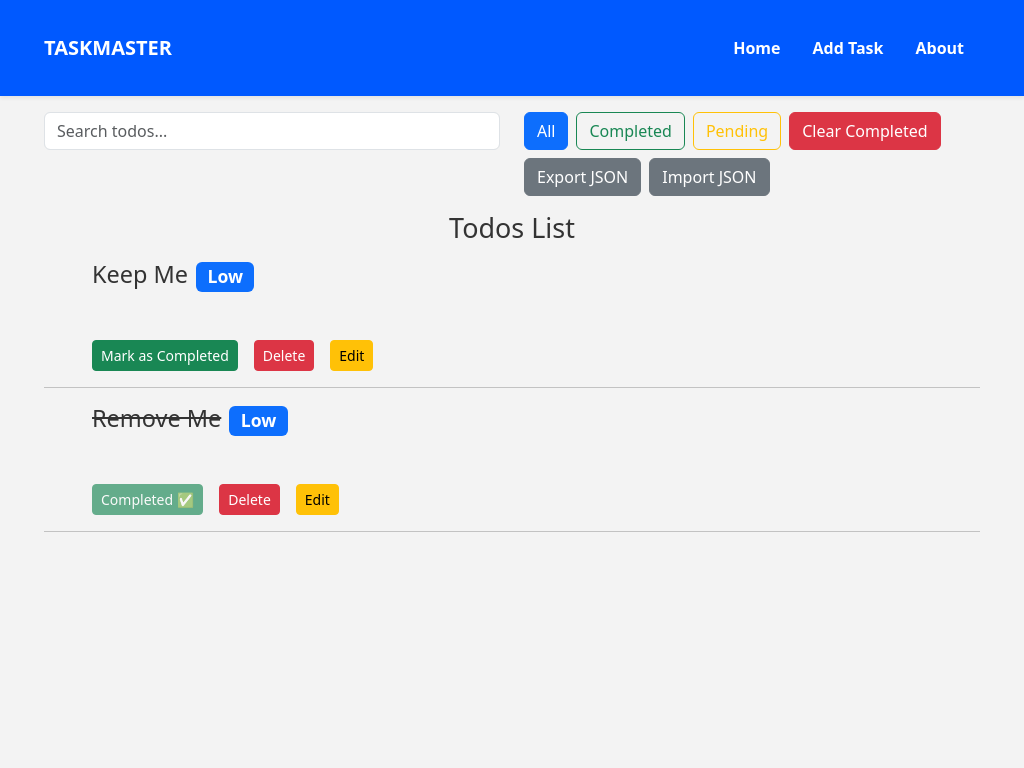
it: App – Clear Completed › removes only completed todos
Click the button "Clear Completed" at (865, 131), box 789,112 -> 941,150
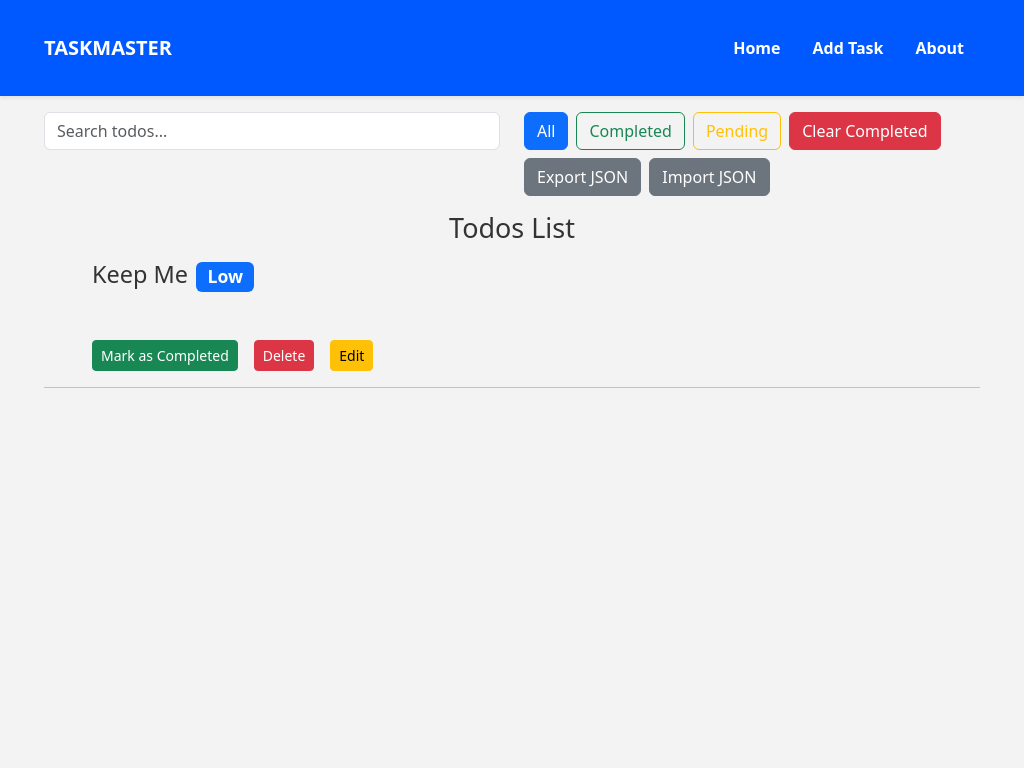
Expected: the heading "Keep Me Low" is shown, 92,258 -> 254,292
Now the heading "Remove Me" is gone
